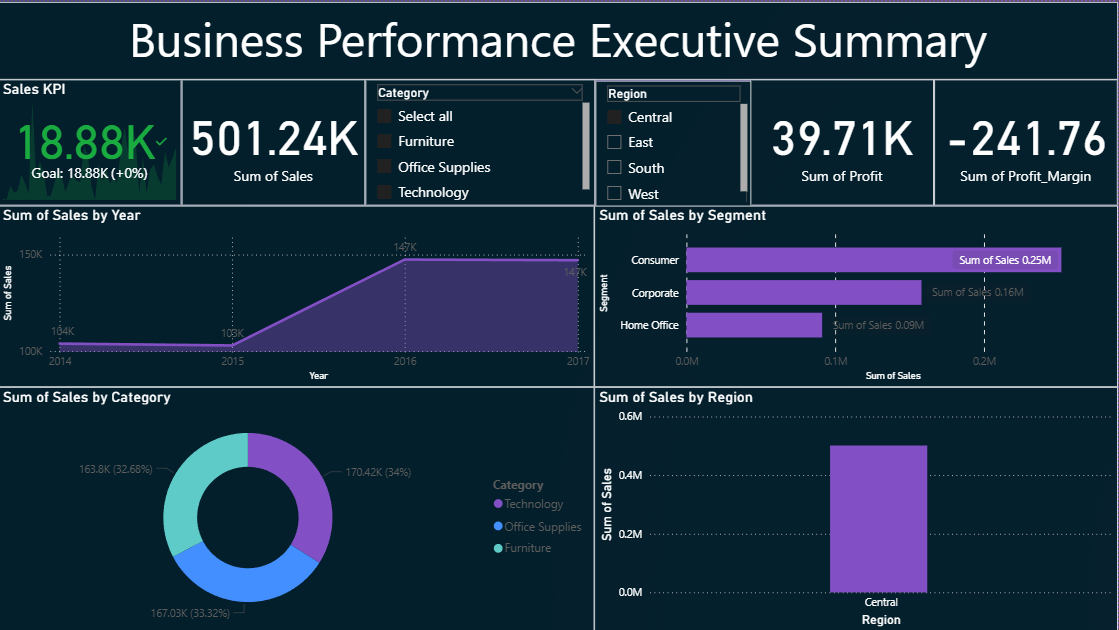

The dashboard page shown, as its layout file describes it:
{"tool":"powerbi","page":{"name":"Page 1","canvas":[1280,720],"ordinal":0},"visuals":[{"type":"lineChart","fields":{"Category":["Superstore_clean.MonthYear.Variation.Date Hierarchy.Year","Superstore_clean.MonthYear.Variation.Date Hierarchy.Quarter","Superstore_clean.MonthYear.Variation.Date Hierarchy.Month","Superstore_clean.MonthYear.Variation.Date Hierarchy.Day"],"Y":["Sum(Superstore_clean.Sales)"]},"box":[0,233.3,682,207.2],"z":0},{"type":"clusteredColumnChart","fields":{"Category":["Superstore_clean.Region"],"Y":["Sum(Superstore_clean.Sales)"]},"box":[682,440.5,598.3,279.9],"z":1000},{"type":"donutChart","fields":{"Category":["Superstore_clean.Category"],"Y":["Sum(Superstore_clean.Sales)"]},"box":[0,440.5,682,279.9],"z":2000},{"type":"kpi","title":"Sales KPI","fields":{"Indicator":["Sum(Superstore_clean.Sales)"],"TrendLine":["Superstore_clean.YearMonth"],"Goal":["Sum(Superstore_clean.Sales)"]},"box":[0,89.2,209.9,144.1],"z":3000},{"type":"slicer","fields":{"Values":["Superstore_clean.Region"]},"box":[682.9,89.6,179.1,144.3],"z":4000},{"type":"slicer","fields":{"Values":["Superstore_clean.Category"]},"box":[419.9,89.2,262.1,144.1],"z":5000},{"type":"card","fields":{"Values":["Sum(Superstore_clean.Sales)"]},"box":[209.9,89.2,209.9,144.1],"z":6000},{"type":"card","fields":{"Values":["Sum(Superstore_clean.Profit)"]},"box":[860.4,89.2,209.9,144.1],"z":7000},{"type":"card","fields":{"Values":["Sum(Superstore_clean.Profit_Margin)"]},"box":[1070.3,89.2,209.9,144.1],"z":8000},{"type":"clusteredBarChart","fields":{"Category":["Superstore_clean.Segment"],"Y":["Sum(Superstore_clean.Sales)"]},"box":[682,233.3,598.3,207.2],"z":9000},{"type":"textbox","box":[0,0,1280.3,89.2],"z":10000}]}

Visuals, with their boxes in screenshot pixels (x1, y1, x2, y2), scaled from the page's 1280x720 canvas onto the 1119x630 screenshot:
lineChart - Superstore_clean.MonthYear.Variation.Date Hierarchy.Year x Superstore_clean.MonthYear.Variation.Date Hierarchy.Quarter: [0,204,596,385]
clusteredColumnChart - Superstore_clean.Region x Sum(Superstore_clean.Sales): [596,385,1118,629]
donutChart - Superstore_clean.Category x Sum(Superstore_clean.Sales): [0,385,596,629]
"Sales KPI" kpi: [0,78,183,204]
slicer - Superstore_clean.Region: [597,78,754,205]
slicer - Superstore_clean.Category: [367,78,596,204]
card - Sum(Superstore_clean.Sales): [183,78,367,204]
card - Sum(Superstore_clean.Profit): [752,78,936,204]
card - Sum(Superstore_clean.Profit_Margin): [936,78,1118,204]
clusteredBarChart - Superstore_clean.Segment x Sum(Superstore_clean.Sales): [596,204,1118,385]
textbox: [0,0,1118,78]
